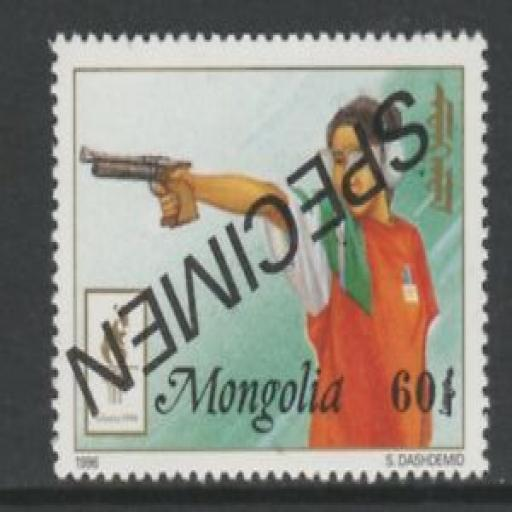shooting: (148, 91, 444, 451)
